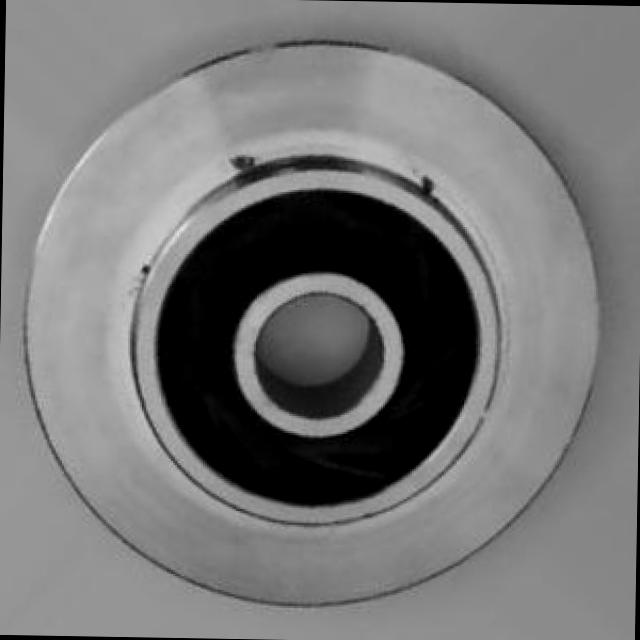Defect: (228, 150, 254, 172)
